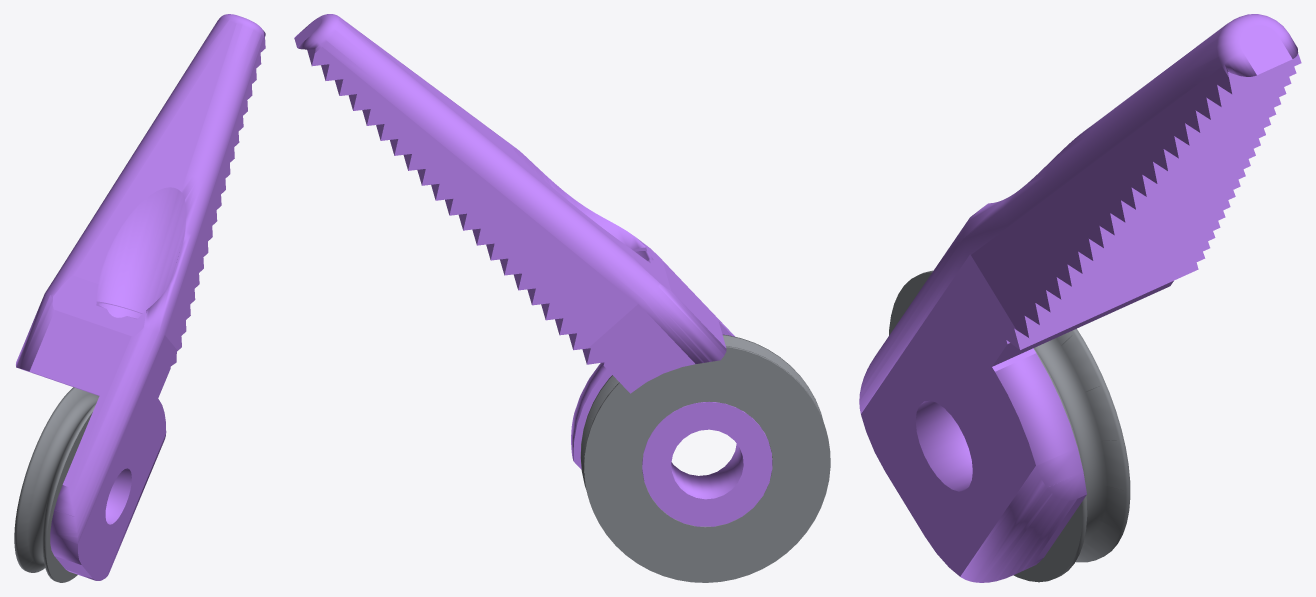
File: grasper_2_blender.dae
3 renders of one model, left to right at view 1: azimuth 30°, elevation 25°; view 2: azimuth 150°, elevation 25°; view 3: azimuth 270°, elevation 25°, orthographic. The views are drawn at different scales.
Parts seen in each view (by area): view 1: Actor1, Actor0; view 2: Actor1, Actor0; view 3: Actor1, Actor0.
Part boxes in pixels (box(x1,y1,x2,y2)): Actor1: box(16, 14, 265, 580); Actor0: box(14, 387, 99, 582); Actor1: box(294, 14, 772, 526); Actor0: box(580, 334, 830, 582); Actor1: box(859, 14, 1301, 582); Actor0: box(889, 270, 1130, 582).
Size of the model in its own units: 0.0167 by 0.0113 by 0.0208.
